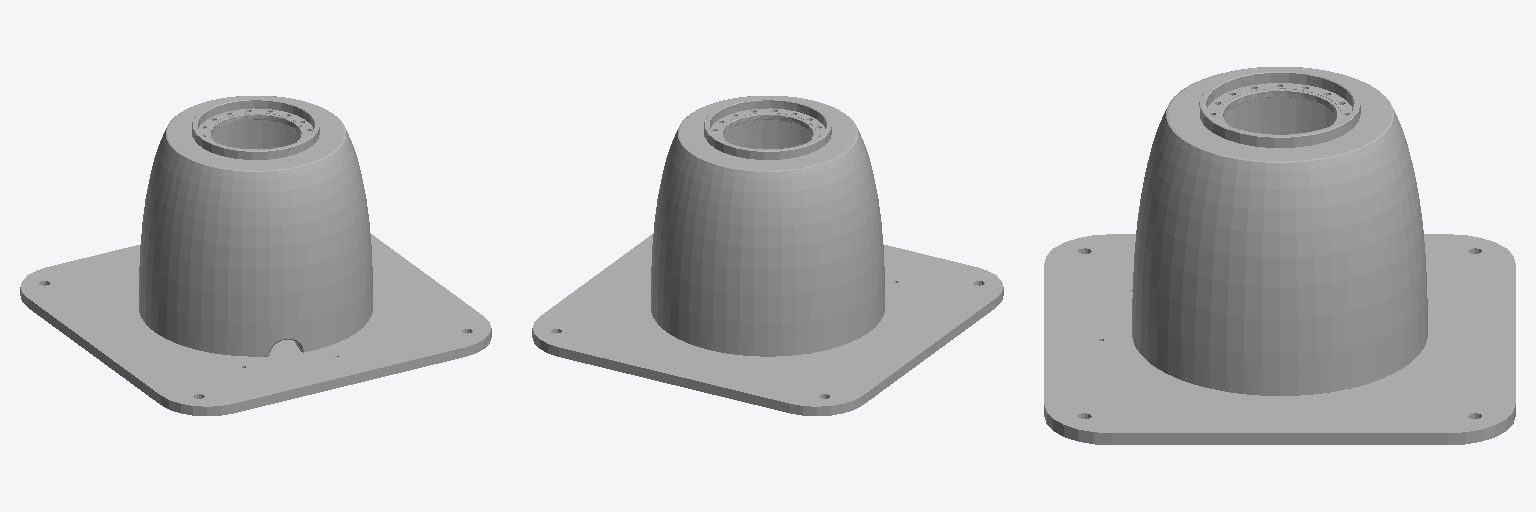
URDF robot description (medical_robot_v1_R2):
<?xml version="1.0" encoding="utf-8"?>
<!-- This URDF was automatically created by SolidWorks to URDF Exporter! Originally created by [author] ([email redacted]) 
     Commit Version: 1.6.0-4-g7f85cfe  Build Version: 1.6.7995.38578
     For more information, please see http://wiki.ros.org/sw_urdf_exporter -->
<robot
  name="medical_robot_v1_R2">
  <link
    name="base_link">
    <inertial>
      <origin
        xyz="9.6595E-07 2.2406E-05 0.022616"
        rpy="0 0 0" />
      <mass
        value="3.839" />
      <inertia
        ixx="0.01337"
        ixy="2.1124E-06"
        ixz="3.5547E-06"
        iyy="0.013374"
        iyz="7.0309E-06"
        izz="0.022707" />
    </inertial>
    <visual>
      <origin
        xyz="0 0 0"
        rpy="0 0 0" />
      <geometry>
        <mesh
          filename="package://addverb_cobot_description/meshes/base_link.STL" />
      </geometry>
      <material
        name="">
        <color
          rgba="0.75294 0.75294 0.75294 1" />
      </material>
    </visual>
    <collision>
      <origin
        xyz="0 0 0"
        rpy="0 0 0" />
      <geometry>
        <mesh
          filename="package://addverb_cobot_description/meshes/base_link.STL" />
      </geometry>
    </collision>
  </link>
  <link
    name="link1">
    <inertial>
      <origin
        xyz="-0.012435 -2.5345E-05 0.28172"
        rpy="0 0 0" />
      <mass
        value="5.0617" />
      <inertia
        ixx="0.011934"
        ixy="-4.2772E-06"
        ixz="0.0016521"
        iyy="0.011427"
        iyz="3.2849E-06"
        izz="0.0091785" />
    </inertial>
    <visual>
      <origin
        xyz="0 0 0"
        rpy="0 0 0" />
      <geometry>
        <mesh
          filename="package://addverb_cobot_description/meshes/link1.STL" />
      </geometry>
      <material
        name="">
        <color
          rgba="0.75294 0.75294 0.75294 1" />
      </material>
    </visual>
    <collision>
      <origin
        xyz="0 0 0"
        rpy="0 0 0" />
      <geometry>
        <mesh
          filename="package://addverb_cobot_description/meshes/link1.STL" />
      </geometry>
    </collision>
  </link>
  <joint
    name="Joint_1"
    type="revolute">
    <origin
      xyz="0 0 0"
      rpy="0 0 0" />
    <parent
      link="base_link" />
    <child
      link="link1" />
    <axis
      xyz="0 0 1" />
    <limit
      lower="-1"
      upper="1"
      effort="150"
      velocity="2" />
  </joint>
  <link
    name="link2">
    <inertial>
      <origin
        xyz="-0.10679 3.7919E-06 0.15236"
        rpy="0 0 0" />
      <mass
        value="1.2353" />
      <inertia
        ixx="0.0057954"
        ixy="3.2114E-08"
        ixz="3.5658E-06"
        iyy="0.0048706"
        iyz="-6.4438E-07"
        izz="0.0016259" />
    </inertial>
    <visual>
      <origin
        xyz="0 0 0"
        rpy="0 0 0" />
      <geometry>
        <mesh
          filename="package://addverb_cobot_description/meshes/link2.STL" />
      </geometry>
      <material
        name="">
        <color
          rgba="0.75294 0.75294 0.75294 1" />
      </material>
    </visual>
    <collision>
      <origin
        xyz="0 0 0"
        rpy="0 0 0" />
      <geometry>
        <mesh
          filename="package://addverb_cobot_description/meshes/link2.STL" />
      </geometry>
    </collision>
  </link>
  <joint
    name="Joint_2"
    type="revolute">
    <origin
      xyz="0 0 0.346"
      rpy="0 0 0" />
    <parent
      link="link1" />
    <child
      link="link2" />
    <axis
      xyz="-1 0 0" />
    <limit
      lower="-0.30"
      upper="2.05"
      effort="150"
      velocity="2" />
  </joint>
  <link
    name="link3">
    <inertial>
      <origin
        xyz="-0.017248 0.035025 -2.2087E-05"
        rpy="0 0 0" />
      <mass
        value="3.5577" />
      <inertia
        ixx="0.0066247"
        ixy="-0.00095453"
        ixz="1.793E-06"
        iyy="0.0050017"
        iyz="1.7882E-06"
        izz="0.0060636" />
    </inertial>
    <visual>
      <origin
        xyz="0 0 0"
        rpy="0 0 0" />
      <geometry>
        <mesh
          filename="package://addverb_cobot_description/meshes/link3.STL" />
      </geometry>
      <material
        name="">
        <color
          rgba="0.75294 0.75294 0.75294 1" />
      </material>
    </visual>
    <collision>
      <origin
        xyz="0 0 0"
        rpy="0 0 0" />
      <geometry>
        <mesh
          filename="package://addverb_cobot_description/meshes/link3.STL" />
      </geometry>
    </collision>
  </link>
  <joint
    name="Joint_3"
    type="revolute">
    <origin
      xyz="0 0 0.305"
      rpy="0 0 0" />
    <parent
      link="link2" />
    <child
      link="link3" />
    <axis
      xyz="1 0 0" />
    <limit
      lower="-1.57"
      upper="0.9"
      effort="150"
      velocity="2" />
  </joint>
  <link
    name="link4">
    <inertial>
      <origin
        xyz="-0.047999 -0.10939 4.4809E-05"
        rpy="0 0 0" />
      <mass
        value="1.31" />
      <inertia
        ixx="0.0014749"
        ixy="0.00050231"
        ixz="1.7564E-06"
        iyy="0.0016894"
        iyz="-1.9993E-06"
        izz="0.0017778" />
    </inertial>
    <visual>
      <origin
        xyz="0 0 0"
        rpy="0 0 0" />
      <geometry>
        <mesh
          filename="package://addverb_cobot_description/meshes/link4.STL" />
      </geometry>
      <material
        name="">
        <color
          rgba="0.75294 0.75294 0.75294 1" />
      </material>
    </visual>
    <collision>
      <origin
        xyz="0 0 0"
        rpy="0 0 0" />
      <geometry>
        <mesh
          filename="package://addverb_cobot_description/meshes/link4.STL" />
      </geometry>
    </collision>
  </link>
  <joint
    name="Joint_4"
    type="revolute">
    <origin
      xyz="-0.0009127 0.36813 0"
      rpy="0 0 0" />
    <parent
      link="link3" />
    <child
      link="link4" />
    <axis
      xyz="0 1 0" />
    <limit
      lower="-1.4"
      upper="1.4"
      effort="80"
      velocity="2" />
  </joint>
  <link
    name="link5">
    <inertial>
      <origin
        xyz="-0.0015193 -0.0027725 -0.044032"
        rpy="0 0 0" />
      <mass
        value="1.1965" />
      <inertia
        ixx="0.0010777"
        ixy="-3.7989E-05"
        ixz="2.9305E-05"
        iyy="0.0010311"
        iyz="4.9507E-05"
        izz="0.0013412" />
    </inertial>
    <visual>
      <origin
        xyz="0 0 0"
        rpy="0 0 0" />
      <geometry>
        <mesh
          filename="package://addverb_cobot_description/meshes/link5.STL" />
      </geometry>
      <material
        name="">
        <color
          rgba="0.75294 0.75294 0.75294 1" />
      </material>
    </visual>
    <collision>
      <origin
        xyz="0 0 0"
        rpy="0 0 0" />
      <geometry>
        <mesh
          filename="package://addverb_cobot_description/meshes/link5.STL" />
      </geometry>
    </collision>
  </link>
  <joint
    name="Joint_5"
    type="revolute">
    <origin
      xyz="0 0 0"
      rpy="0 0 0" />
    <parent
      link="link4" />
    <child
      link="link5" />
    <axis
      xyz="0.5 0.86603 0" />
    <limit
      lower="-3.14"
      upper="3.14"
      effort="80"
      velocity="2" />
  </joint>
  <link
    name="end-effector">
    <inertial>
      <origin
        xyz="-0.018484 -0.3079 -0.15412"
        rpy="0 0 0" />
      <mass
        value="2.348" />
      <inertia
        ixx="1.629"
        ixy="0.0010369"
        ixz="0.057914"
        iyy="1.3338"
        iyz="-0.30823"
        izz="0.38146" />
    </inertial>
    <visual>
      <origin
        xyz="0 0 0"
        rpy="0 0 0" />
      <geometry>
        <mesh
          filename="package://addverb_cobot_description/meshes/end-effector.STL" />
      </geometry>
      <material
        name="">
        <color
          rgba="1 1 1 1" />
      </material>
    </visual>
    <collision>
      <origin
        xyz="0 0 0"
        rpy="0 0 0" />
      <geometry>
        <mesh
          filename="package://addverb_cobot_description/meshes/end-effector.STL" />
      </geometry>
    </collision>
  </link>
  <joint
    name="Joint_6"
    type="revolute">
    <origin
      xyz="0 0 -0.0975"
      rpy="0 0 0" />
    <parent
      link="link5" />
    <child
      link="end-effector" />
    <axis
      xyz="0 0 -1" />
    <limit
      lower="-3.14"
      upper="3.14"
      effort="80"
      velocity="2" />
  </joint>
</robot>

--- Render facts (derived) ---
The picture shows the robot from 3 angles, left to right: view 1: azimuth 30°, elevation 25°; view 2: azimuth 150°, elevation 25°; view 3: azimuth 270°, elevation 25°; orthographic projection.
Model medical_robot_v1_R2 with 7 links and 6 joints (6 revolute), rooted at base_link, posed all joints at 0.
Visible links, largest first — view 1: base_link; view 2: base_link; view 3: base_link.
Boxes of the visible links, x1=… form: base_link: x1=20, y1=96, x2=491, y2=415; base_link: x1=532, y1=96, x2=1003, y2=415; base_link: x1=1044, y1=67, x2=1515, y2=444.
Size in the robot's own frame: 0.35 by 0.35 by 0.199 metres.
1 mesh visuals loaded from 7 distinct referenced files (1 binary STL); not drawn: 6 (reference not matched to a file when rendering).